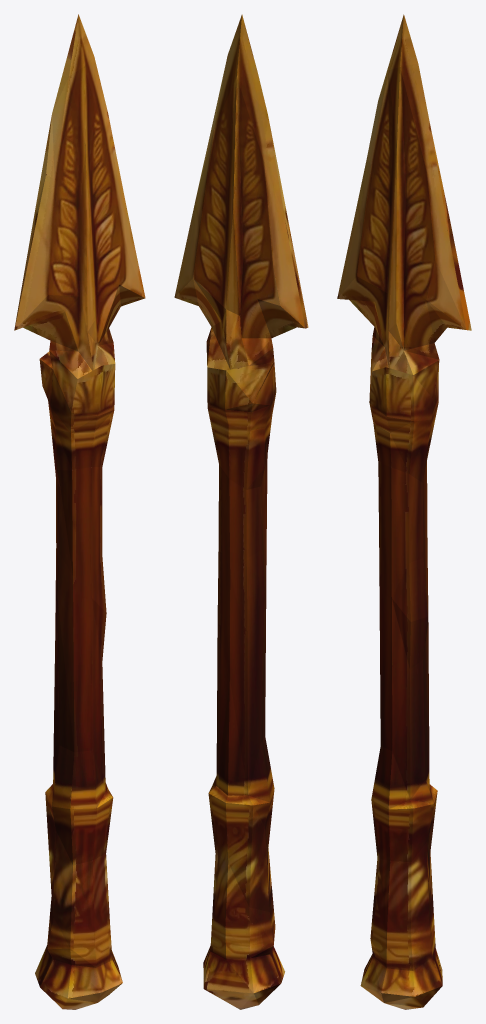
Rendered from ornate_spear_3.glb.
3 views of the same model, side by side, from view 1: azimuth 30°, elevation 25°; view 2: azimuth 150°, elevation 25°; view 3: azimuth 330°, elevation 25° (orthographic).
Visible parts, largest first — view 1: TexturedMesh_.obj; view 2: TexturedMesh_.obj; view 3: TexturedMesh_.obj.
Part boxes in pixels (x1,y1,x2,y2): TexturedMesh_.obj: (14, 14, 145, 1009); TexturedMesh_.obj: (174, 14, 308, 1009); TexturedMesh_.obj: (337, 14, 471, 1009).
Bounding box in the file's own units: 0.2774 × 1.99 × 0.1605.
1 material, 1 textured.
